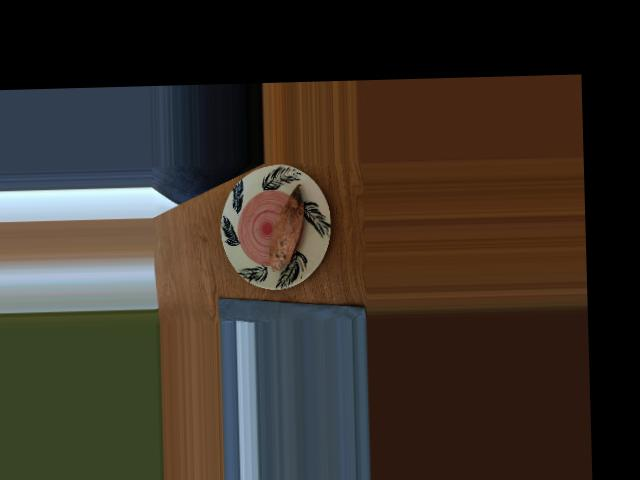sweet_potato: (262, 191, 312, 268)
